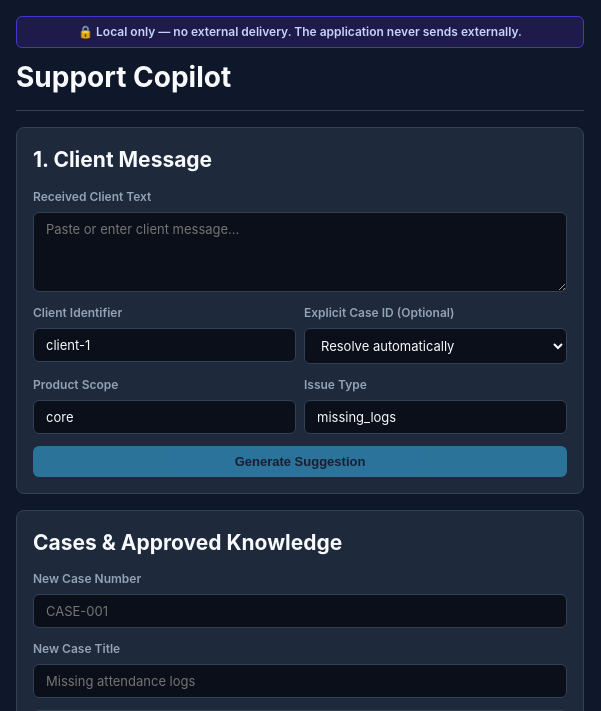
Test: Desktop Overlay App Component › renders grounded suggestion with draft, sources, and missing facts
Step 1. Type "Missing attendance logs" into the text box labelled "Received Client Text" → (300, 252), box [33,212,567,292]
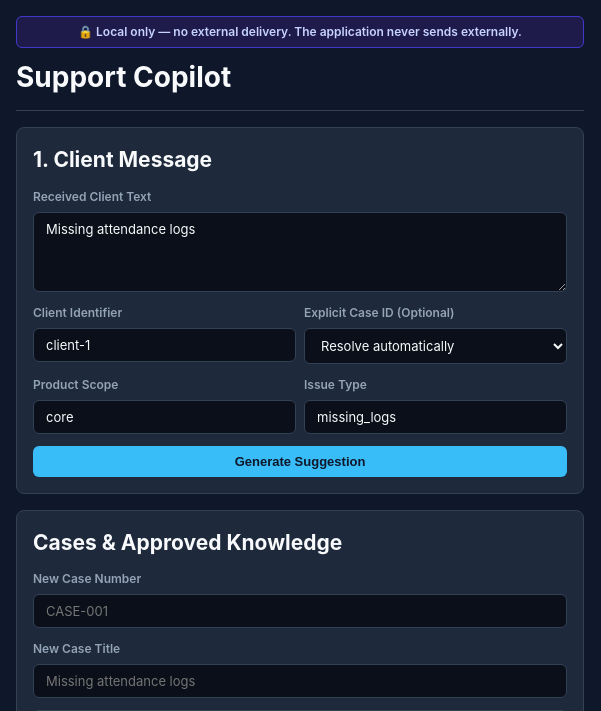
Step 2. Click the button "Generate Suggestion" → click(300, 461), box [33,446,567,476]
(page scrolled)
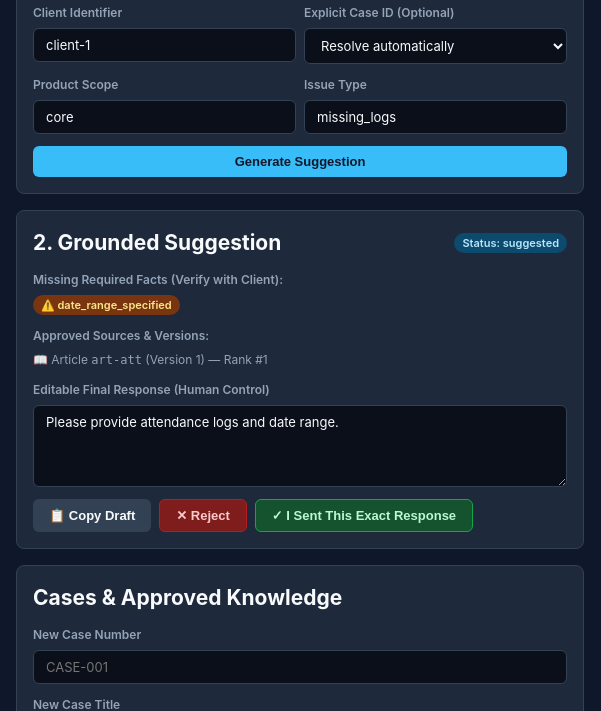
Now the heading "2. Grounded Suggestion" is shown, box [33,227,281,258]
Now the text box labelled "Editable Final Response (Human Control)" holds "Please provide attendance logs and date range.", box [33,405,567,487]
Now the text "⚠️ date_range_specified" is shown, box [33,294,180,315]
